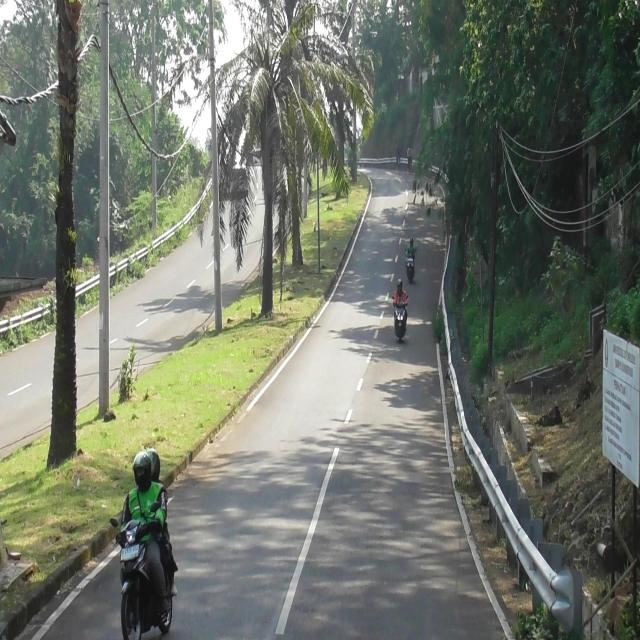motorcycle: (111, 502, 173, 639), (394, 299, 407, 342), (406, 251, 416, 284)
person: (119, 449, 169, 612), (147, 448, 178, 594), (393, 279, 408, 306), (406, 238, 416, 257)
rider_region: (112, 434, 176, 639), (392, 278, 408, 348), (406, 230, 418, 280)
